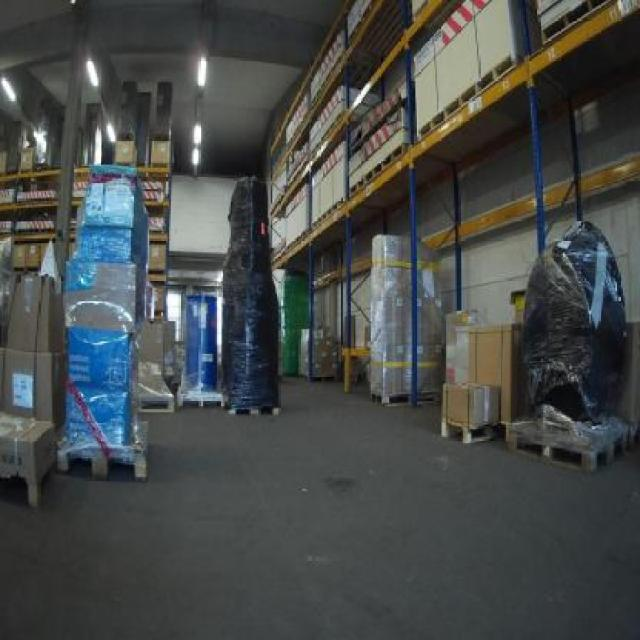pallet: (408, 40, 523, 147), (495, 415, 633, 480), (50, 443, 153, 481), (432, 413, 497, 448), (176, 392, 226, 412), (222, 406, 284, 420)
